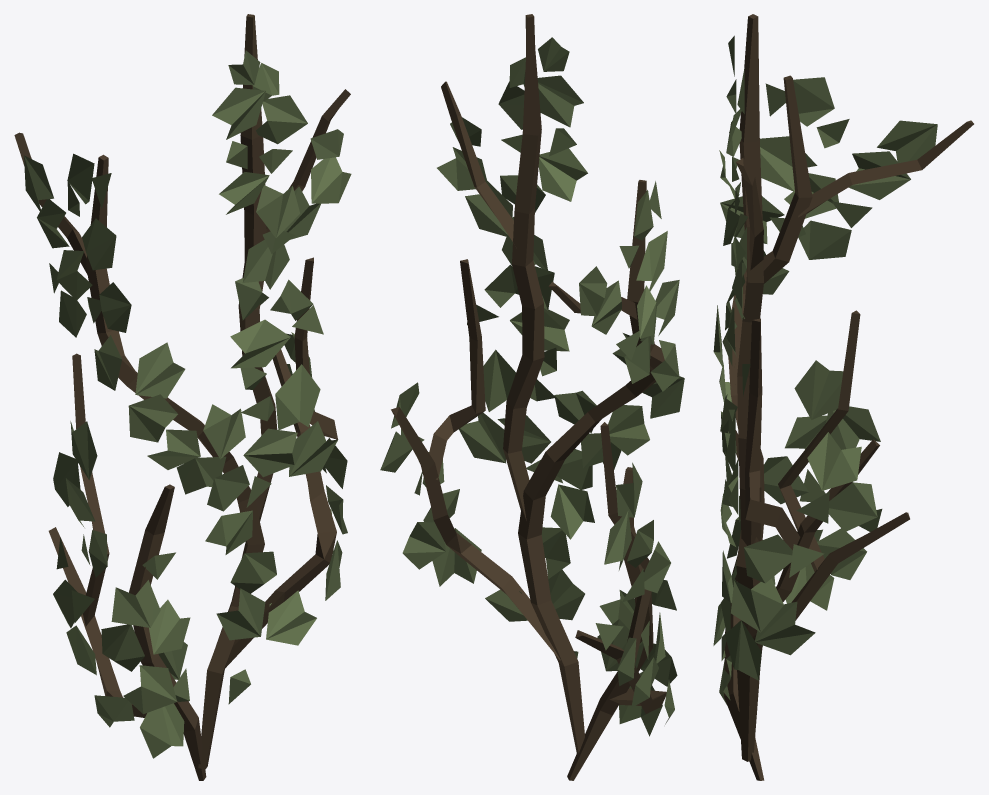
Rendered from SM_Bld_Pillar_01_Vine_01.obj.
3 views of the same model, side by side, from view 1: azimuth 30°, elevation 25°; view 2: azimuth 150°, elevation 25°; view 3: azimuth 270°, elevation 25° (orthographic). The views are drawn at different scales.
Visible parts, largest first — view 1: SM_Bld_Pillar_01_Vine_01_0; view 2: SM_Bld_Pillar_01_Vine_01_0; view 3: SM_Bld_Pillar_01_Vine_01_0.
Part boxes in pixels (<box>): SM_Bld_Pillar_01_Vine_01_0: <box>14,14,351,780</box>; SM_Bld_Pillar_01_Vine_01_0: <box>380,14,684,780</box>; SM_Bld_Pillar_01_Vine_01_0: <box>713,14,973,780</box>.
Size of the model in its own units: 0.6597 by 1.88 by 0.5643.
1 material, 1 textured.
